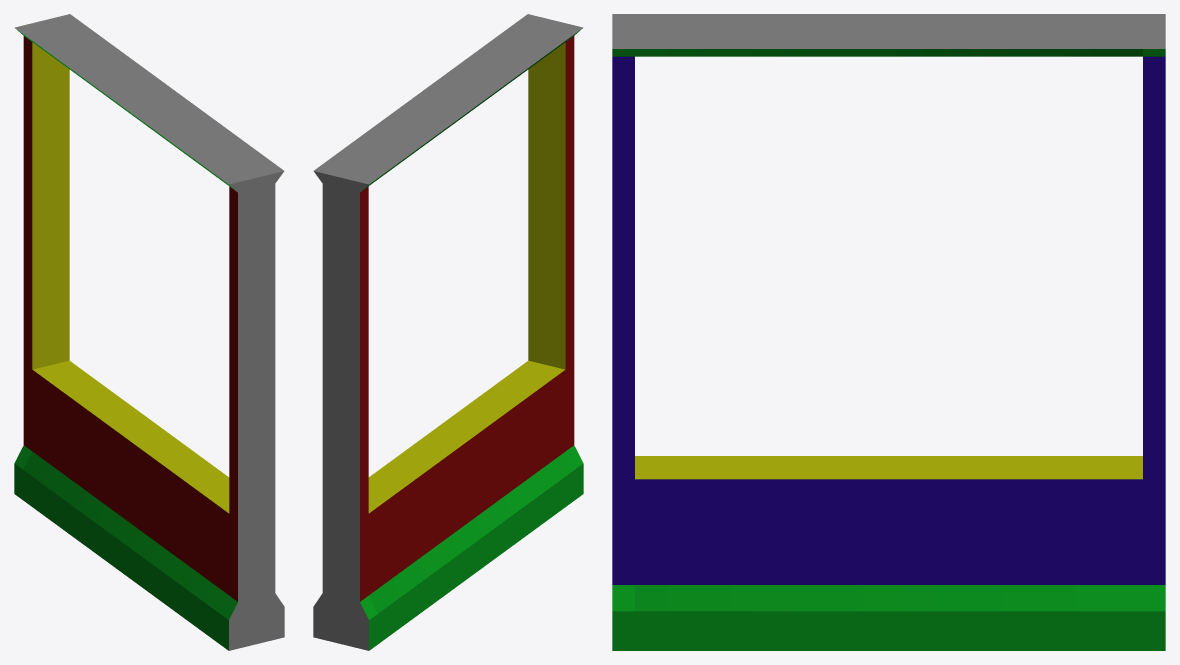
Rendered from ModularWallBal.FBX.
3 renders of one model, left to right at view 1: azimuth 30°, elevation 25°; view 2: azimuth 150°, elevation 25°; view 3: azimuth 270°, elevation 25°, orthographic. The views are drawn at different scales.
Parts seen in each view (by area): view 1: ModularBalWall; view 2: ModularBalWall; view 3: ModularBalWall.
Boxes of the visible parts, left/top/right/bottom form: ModularBalWall: left=14, top=14, right=284, bottom=650; ModularBalWall: left=313, top=14, right=583, bottom=650; ModularBalWall: left=612, top=14, right=1165, bottom=650.
Size of the model in its own units: 15 by 120 by 100.
